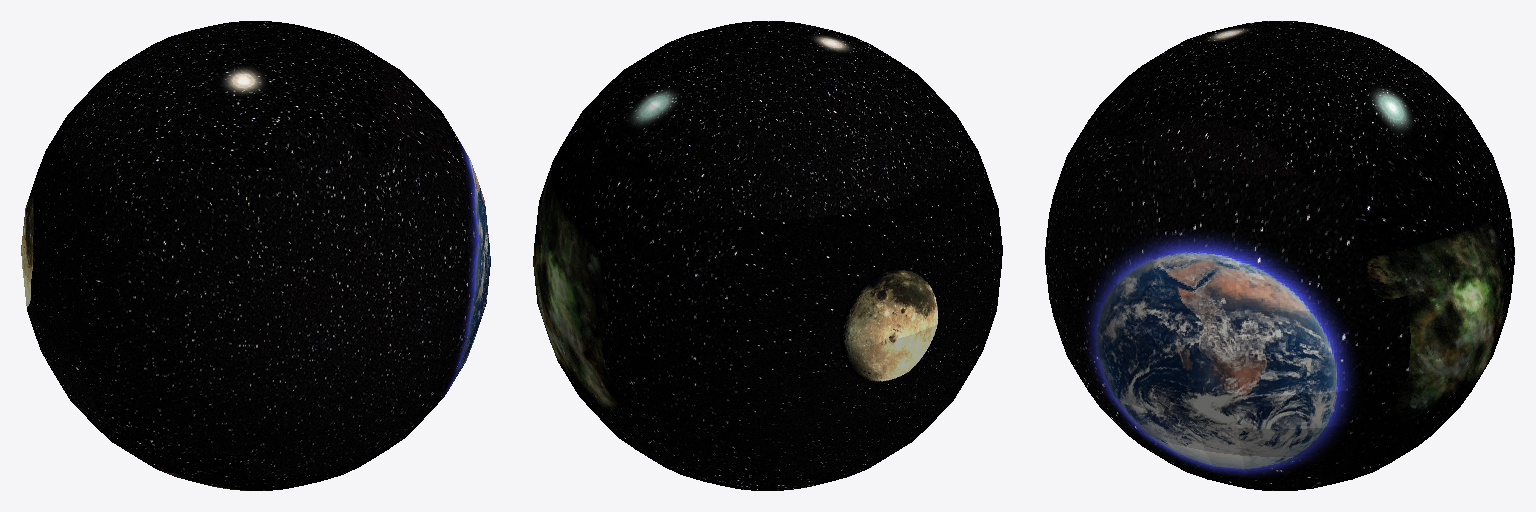
3 renders of one model, left to right at view 1: azimuth 30°, elevation 25°; view 2: azimuth 150°, elevation 25°; view 3: azimuth 270°, elevation 25°, orthographic.
Parts seen in each view (by area): view 1: Sphere; view 2: Sphere; view 3: Sphere.
Boxes of the visible parts, x1,y1,x2,y2 form: Sphere: [21, 21, 490, 490]; Sphere: [533, 21, 1002, 490]; Sphere: [1045, 21, 1514, 490].
Size of the model in its own units: 418 by 418 by 418.
1 materials, 1 textured.